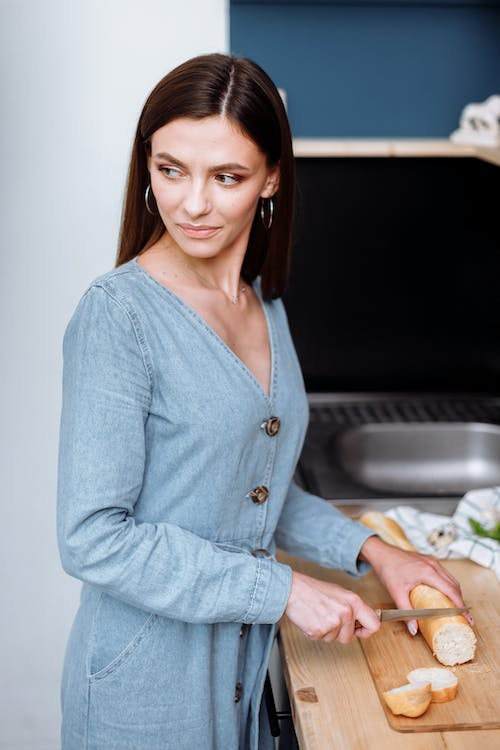knife: (373, 605, 472, 622)
